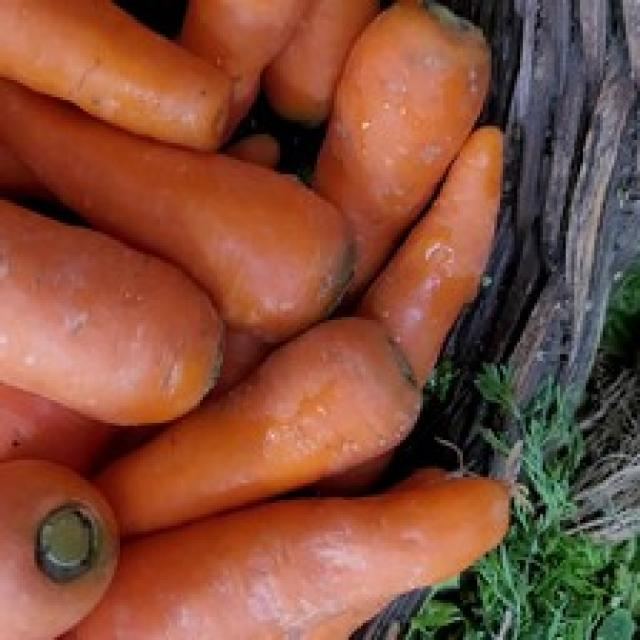Fresh_Carrot: (68, 471, 546, 621), (82, 336, 404, 536), (305, 0, 489, 291), (0, 195, 209, 405)
